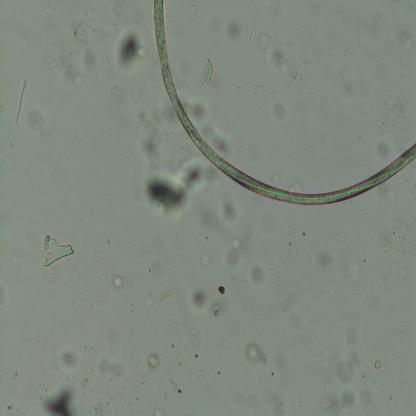Background material: (142, 157, 204, 220), (179, 87, 224, 152), (253, 27, 299, 83), (188, 278, 231, 316), (115, 24, 148, 71), (135, 106, 162, 159), (44, 55, 86, 88), (380, 216, 416, 250), (338, 352, 358, 413), (40, 232, 76, 265), (43, 385, 77, 414), (144, 280, 178, 309), (336, 62, 359, 104), (71, 7, 96, 45), (34, 0, 70, 25), (223, 236, 244, 274), (30, 108, 51, 141), (374, 134, 395, 166), (219, 196, 240, 226), (280, 304, 301, 333), (60, 346, 83, 372), (226, 17, 246, 44), (318, 390, 338, 416), (99, 358, 123, 379), (166, 339, 183, 368), (245, 343, 268, 364), (312, 246, 332, 270), (360, 385, 375, 416), (80, 46, 100, 69), (247, 262, 266, 286), (84, 403, 119, 416), (198, 58, 214, 86), (365, 8, 381, 36), (344, 259, 361, 284), (84, 347, 98, 374), (395, 26, 410, 49), (274, 353, 292, 372), (278, 220, 298, 237), (273, 100, 287, 124), (111, 269, 127, 290), (197, 249, 213, 268), (197, 369, 213, 387), (268, 265, 283, 284), (166, 259, 181, 277), (146, 352, 160, 370), (46, 264, 58, 285), (0, 282, 8, 312), (168, 376, 183, 392), (93, 264, 111, 277), (4, 132, 16, 151), (273, 396, 284, 416), (290, 144, 308, 156), (96, 66, 109, 82), (270, 0, 282, 15), (326, 346, 336, 364), (187, 2, 199, 17), (102, 48, 111, 65), (372, 357, 382, 372), (399, 264, 409, 279), (186, 327, 198, 339), (151, 406, 164, 416), (78, 373, 88, 386), (177, 231, 187, 242), (356, 282, 366, 292), (63, 374, 74, 383), (268, 368, 276, 380), (111, 82, 119, 94), (123, 152, 131, 163), (10, 371, 18, 380), (197, 324, 203, 335), (132, 395, 140, 402), (106, 236, 112, 245), (216, 368, 222, 376), (140, 378, 146, 386), (296, 397, 303, 403), (302, 230, 306, 238), (194, 352, 199, 358), (7, 405, 12, 411), (303, 368, 307, 375), (315, 318, 319, 323), (364, 258, 367, 263), (165, 392, 168, 397), (204, 346, 206, 351), (149, 268, 150, 272)
Glass filter fibre: (14, 79, 28, 126), (61, 193, 85, 205)
Microfibre: (152, 0, 416, 206)
